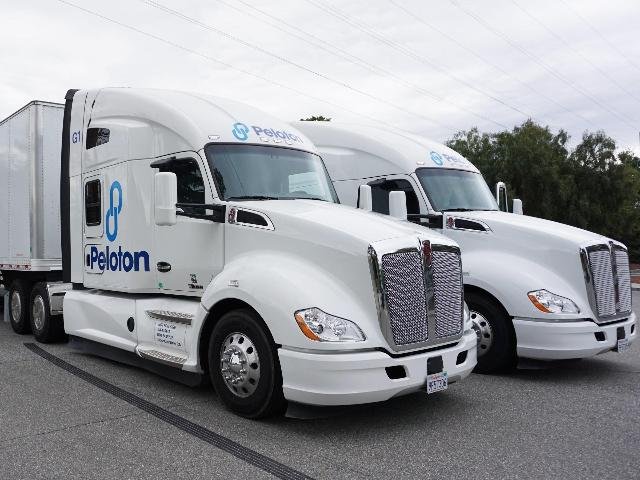truck: (0, 79, 471, 429)
